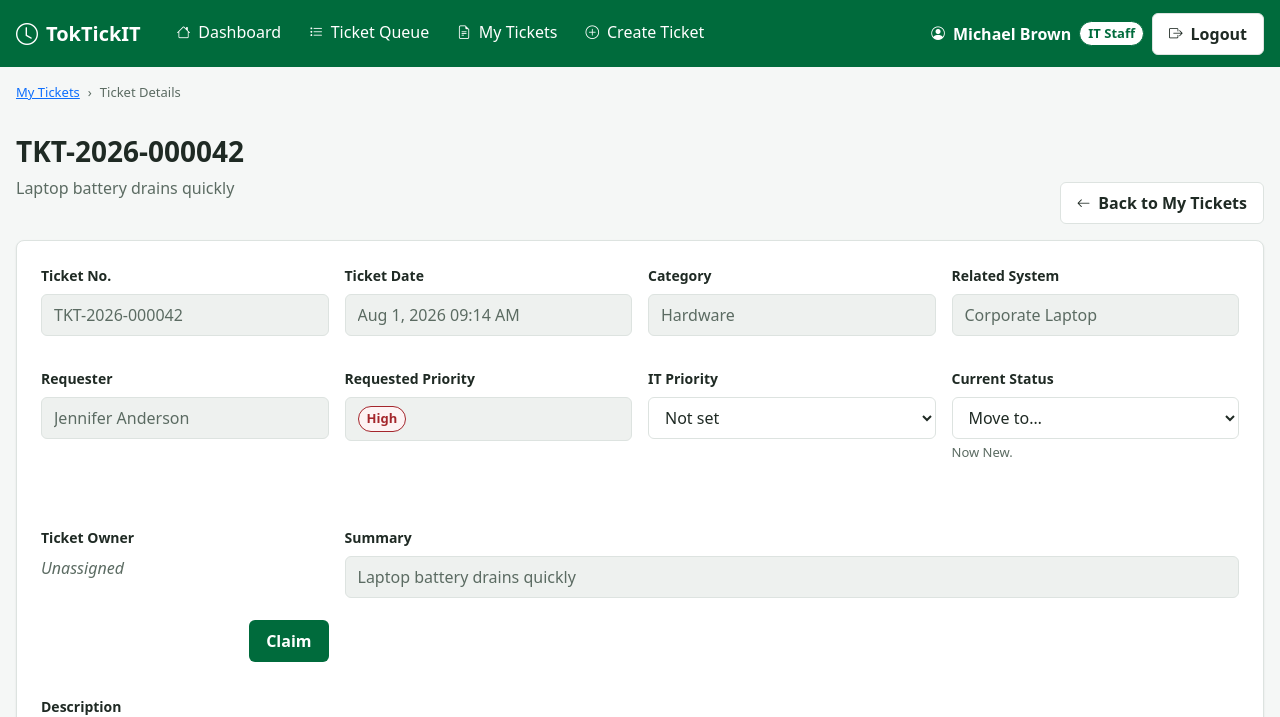
Test: UI-16 only permitted transitions are offered › says why when the server refuses a transition
Select "Open" in the dropdown labelled "Current Status" at (1095,418), box [952,397,1239,439]
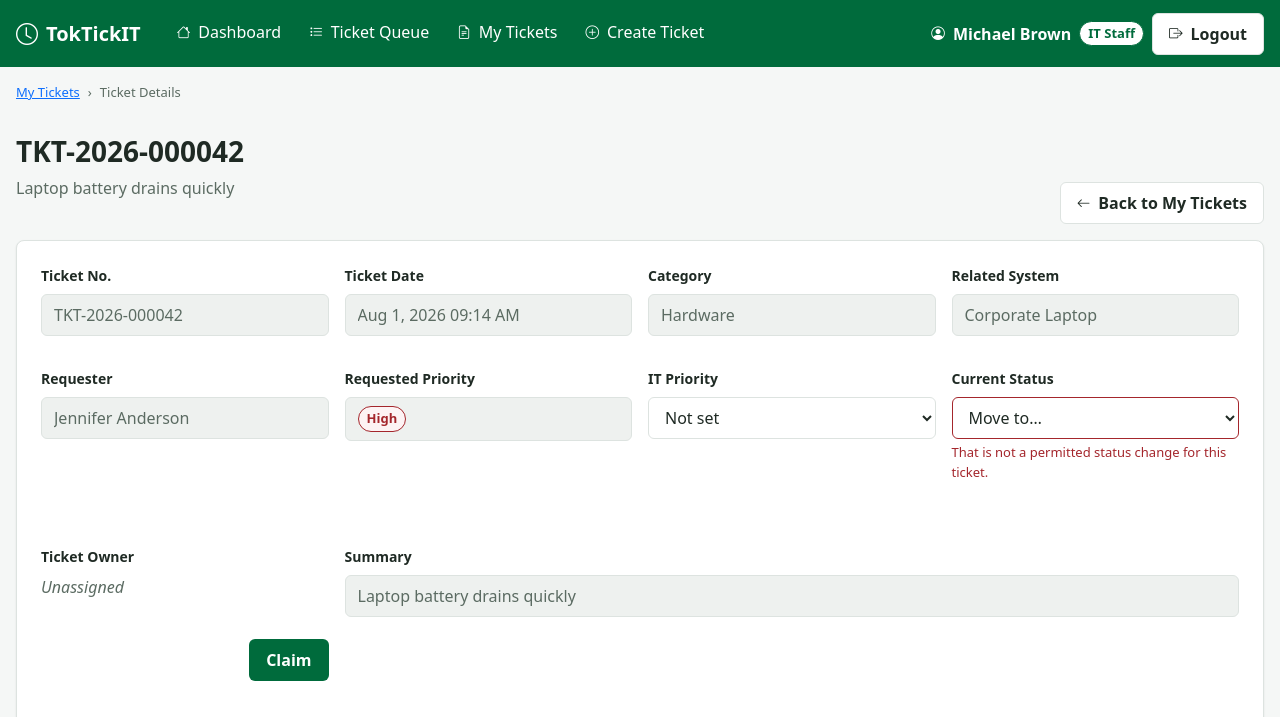
Expected: the text "That is not a permitted status change for this ticket." is shown, [952,443,1239,482]
